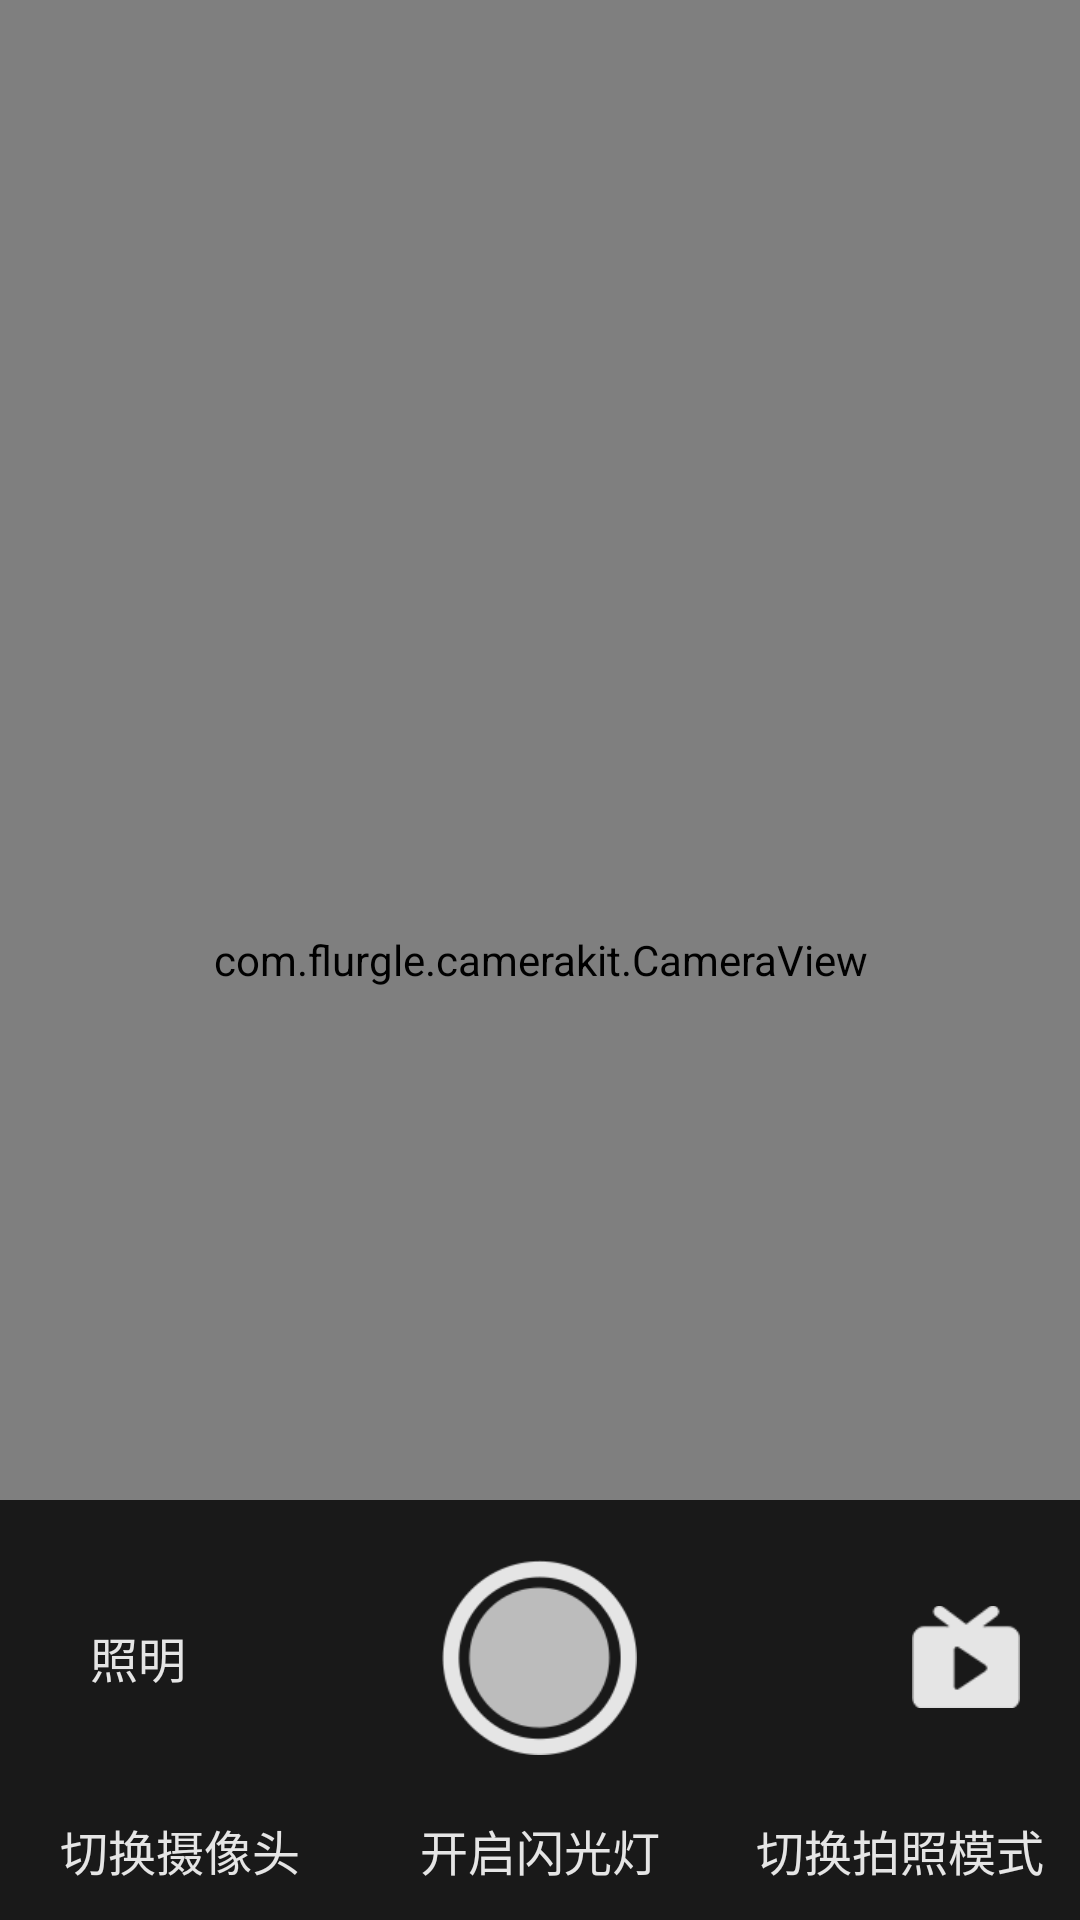

Screen size 1080*1920. Icon name, then its box in pixels as (x1, y1, x2, y2):
photograp video: (912, 1606, 1020, 1708)
shutter photo: (442, 1560, 637, 1755)
